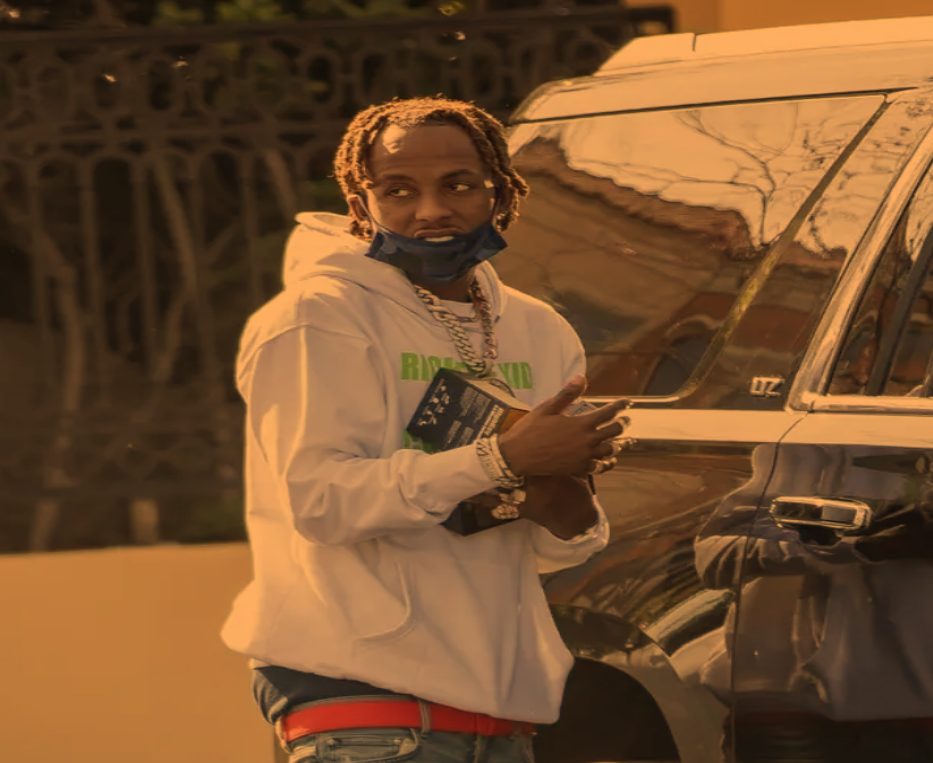mask_weared_incorrect: (335, 97, 525, 288)
